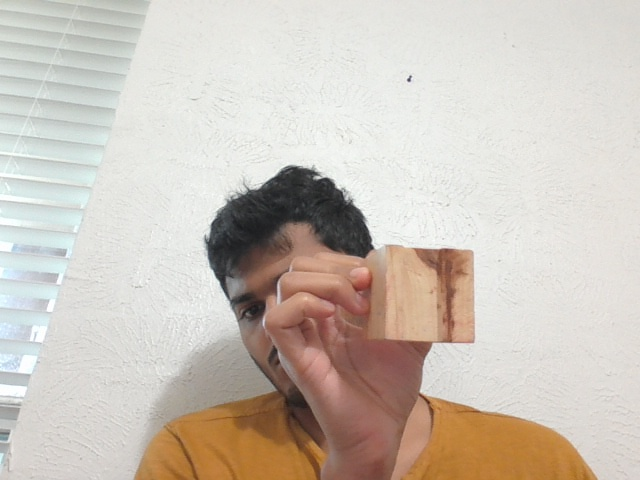NormalBlock: (364, 245, 477, 344)
